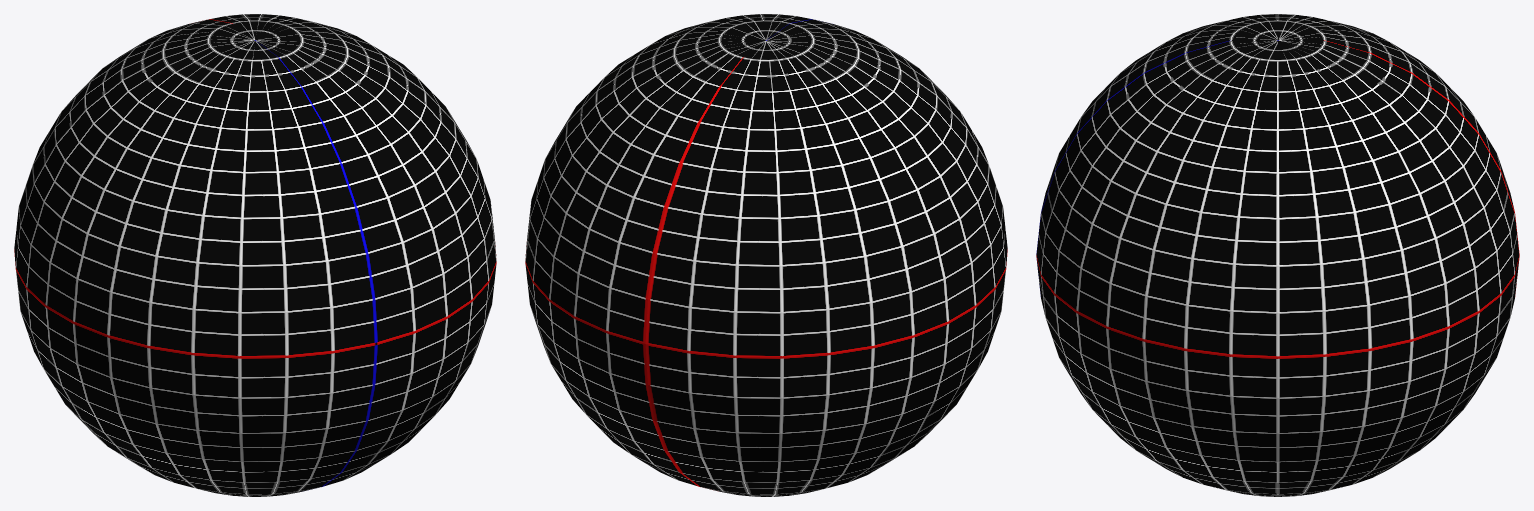
Rendered from skydome.fbx.
The picture shows the model from 3 angles, left to right: view 1: azimuth 30°, elevation 25°; view 2: azimuth 150°, elevation 25°; view 3: azimuth 270°, elevation 25°; orthographic projection.
Visible parts, largest first — view 1: Sphere; view 2: Sphere; view 3: Sphere.
Part boxes in pixels (<box>): Sphere: <box>14,14,496,496</box>; Sphere: <box>525,14,1007,496</box>; Sphere: <box>1036,14,1519,496</box>.
Size of the model in its own units: 2 by 1.96 by 2.
1 material, 1 textured.
